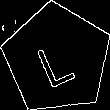L_NW: (33, 30, 81, 88)
